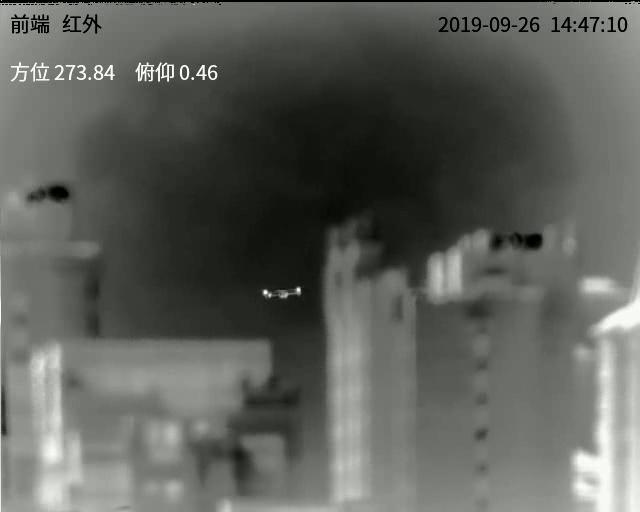DRONE: (259, 285, 303, 301)
